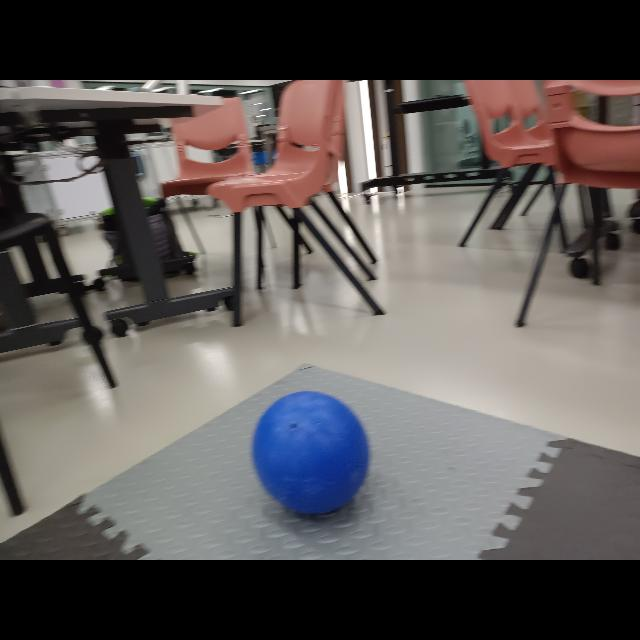B: (255, 392, 369, 522)
